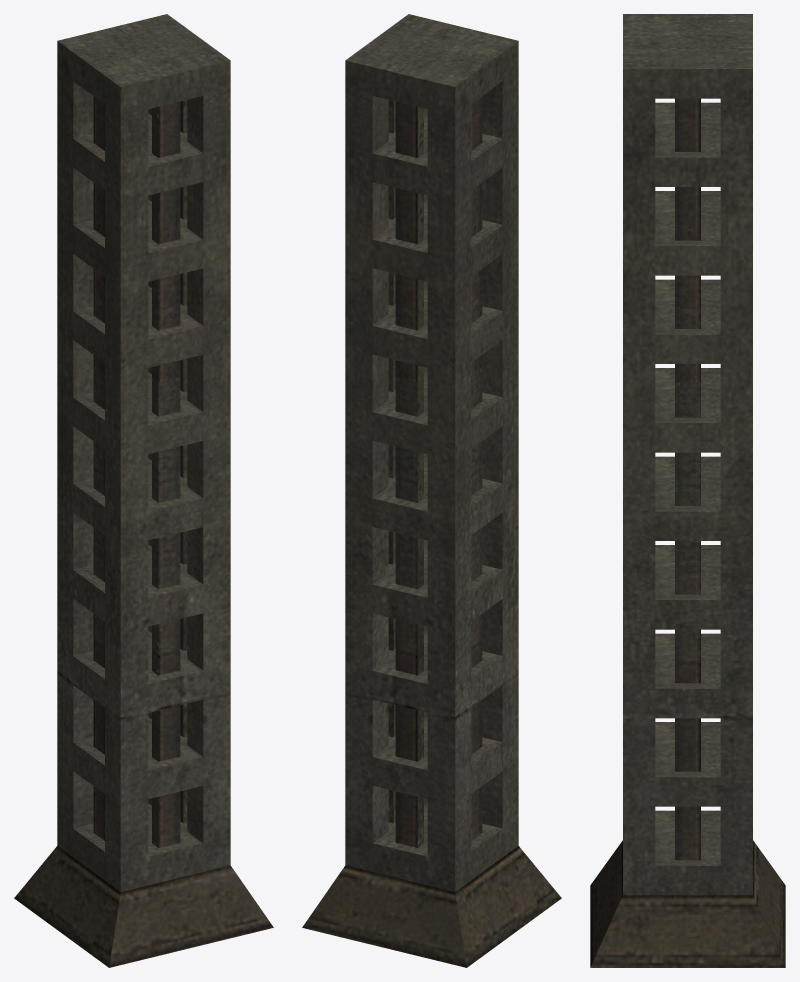
Rendered from pillar_rgx_2.obj.
3 views of the same model, side by side, from view 1: azimuth 30°, elevation 25°; view 2: azimuth 150°, elevation 25°; view 3: azimuth 270°, elevation 25° (orthographic). The views are drawn at different scales.
Visible parts, largest first — view 1: pillar_rgx_2; view 2: pillar_rgx_2; view 3: pillar_rgx_2.
Part boxes in pixels (bbox=[...]): pillar_rgx_2: bbox=[14, 14, 273, 967]; pillar_rgx_2: bbox=[302, 14, 561, 967]; pillar_rgx_2: bbox=[590, 14, 785, 967].
Size of the model in its own units: 0.6 by 3 by 0.6.
